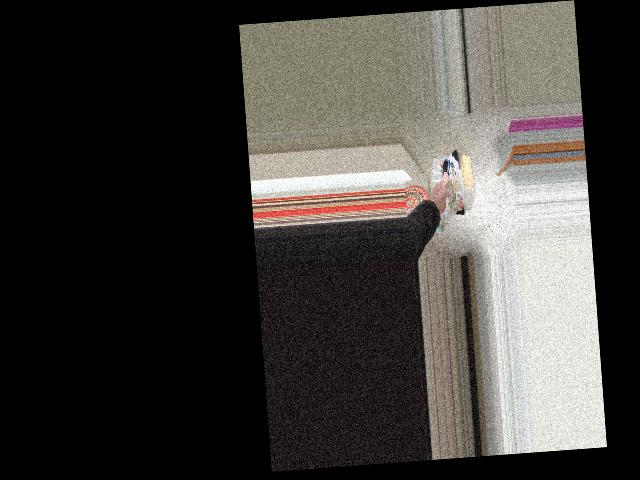cheese: (424, 145, 494, 224)
